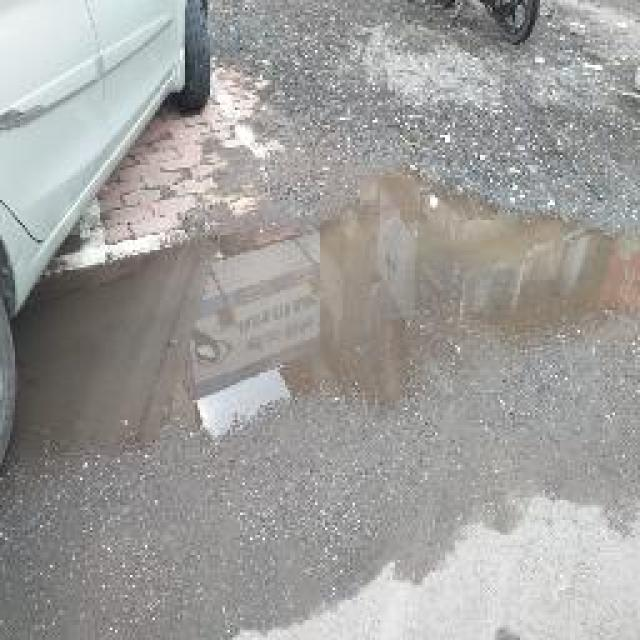puddle: (45, 202, 640, 442)
